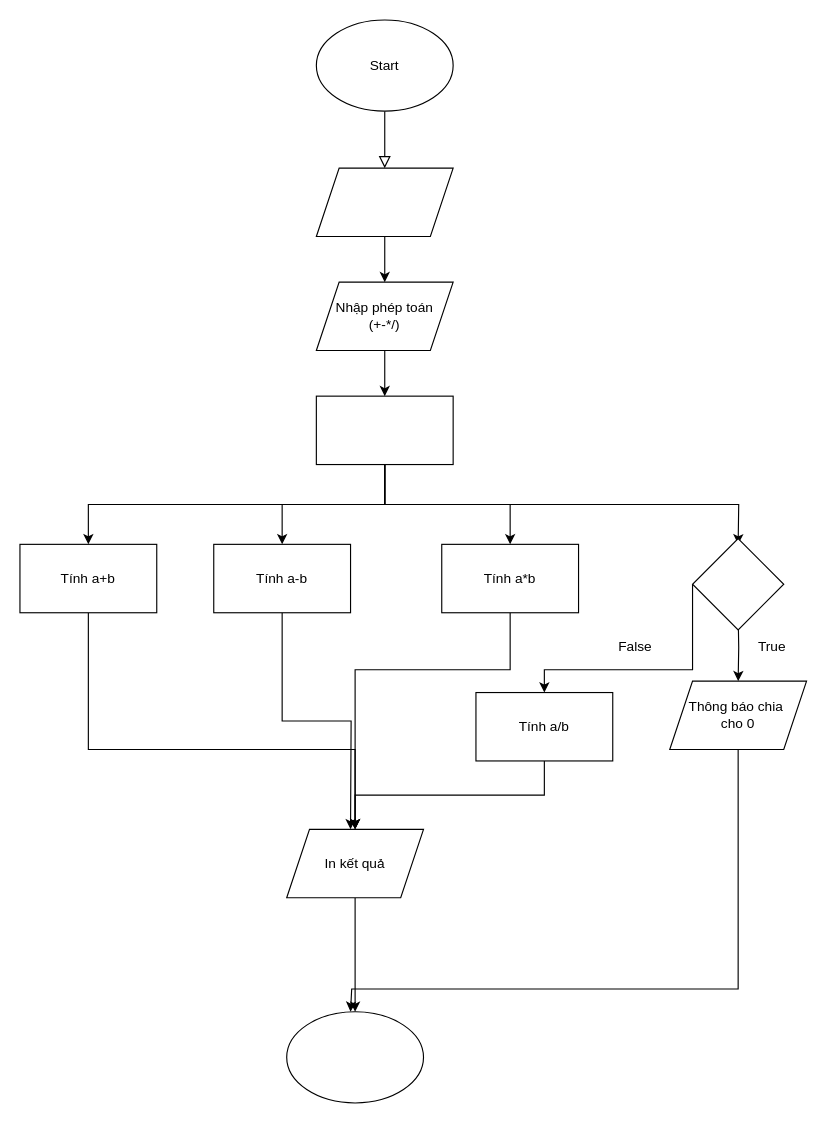
Image size: 827x1123. Some labels were removed from this diagram. The shapes that lost their labels are listed below. From the top down, each one's box as (x1, y1, x2, y2) in pixels, then its label:
(315, 167, 453, 237): Nhập a,b
(315, 395, 453, 465): Kiểm tra phép tính
(691, 538, 784, 630): Kiểm tra b=0
(286, 1011, 424, 1103): End
